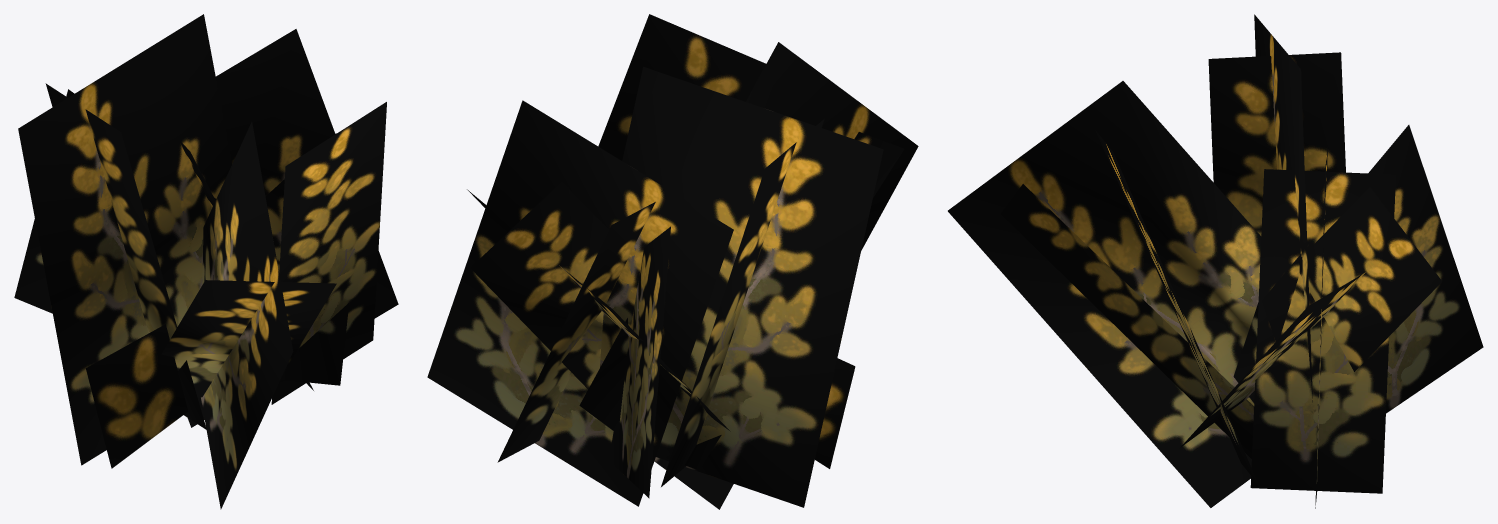
File: P_DesertBush01.obj
3 views of the same model, side by side, from view 1: azimuth 30°, elevation 25°; view 2: azimuth 150°, elevation 25°; view 3: azimuth 270°, elevation 25° (orthographic). The views are drawn at different scales.
Size of the model in its own units: 3.19 by 3.38 by 3.63.
